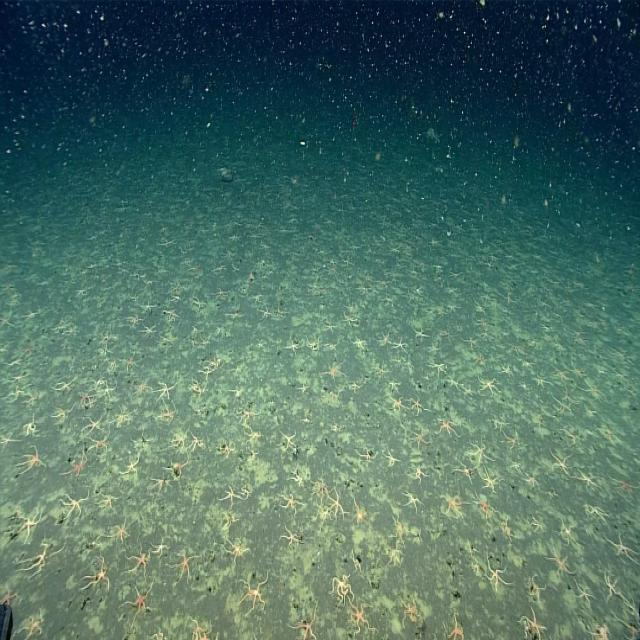brittle-stars: (14, 597, 55, 640), (288, 602, 326, 640), (13, 503, 50, 542), (237, 570, 269, 614), (26, 541, 56, 587), (594, 571, 634, 602), (59, 488, 93, 524), (544, 540, 575, 579), (1, 380, 34, 414), (126, 582, 153, 623), (550, 445, 575, 488), (112, 452, 146, 483), (82, 559, 112, 594), (435, 412, 463, 449), (613, 528, 640, 566), (217, 477, 250, 508), (400, 592, 422, 638), (112, 400, 137, 440), (175, 545, 197, 589), (491, 552, 512, 598), (329, 570, 359, 602), (472, 487, 496, 527), (17, 414, 46, 447), (438, 489, 467, 522), (518, 604, 544, 640), (436, 611, 468, 640), (124, 548, 149, 585), (408, 422, 432, 460), (557, 514, 580, 553), (170, 449, 193, 487), (21, 446, 50, 476), (110, 511, 133, 548), (169, 417, 194, 451), (228, 530, 248, 572), (51, 394, 72, 434), (604, 478, 640, 501), (98, 374, 122, 408), (96, 484, 118, 521), (348, 601, 372, 634), (524, 572, 548, 605), (479, 367, 499, 405), (467, 437, 496, 463), (578, 468, 604, 497), (583, 500, 608, 530), (480, 462, 501, 497), (63, 450, 89, 478), (398, 487, 426, 513), (283, 329, 304, 363), (146, 472, 166, 506), (54, 370, 79, 397), (280, 528, 305, 555), (584, 619, 616, 640), (81, 414, 103, 444), (387, 517, 409, 547), (257, 303, 280, 331), (313, 501, 335, 529), (427, 351, 449, 379), (77, 388, 97, 418), (239, 426, 263, 451), (320, 359, 347, 381), (234, 403, 262, 424), (191, 428, 208, 462), (551, 364, 575, 388), (293, 377, 318, 400), (220, 502, 235, 540), (316, 470, 333, 503), (501, 428, 524, 452), (455, 461, 477, 486), (123, 309, 144, 335), (94, 430, 112, 460), (280, 428, 300, 455), (383, 446, 402, 474), (279, 494, 304, 515), (218, 433, 236, 462), (227, 302, 247, 328), (191, 291, 210, 318), (134, 379, 155, 403), (371, 352, 390, 378), (126, 346, 142, 376), (335, 490, 351, 520), (152, 535, 166, 568), (190, 375, 207, 402), (411, 464, 430, 488), (389, 390, 405, 418), (142, 291, 158, 318), (410, 321, 428, 345), (156, 384, 181, 401), (99, 328, 116, 353), (392, 337, 413, 357), (576, 585, 597, 605), (529, 372, 548, 394), (554, 392, 570, 418), (356, 501, 374, 524), (205, 352, 222, 376), (531, 512, 546, 539), (410, 395, 426, 419), (360, 445, 380, 464), (214, 284, 233, 304), (500, 358, 514, 385), (163, 305, 180, 326), (503, 507, 512, 546), (475, 312, 494, 330), (351, 334, 368, 354), (144, 316, 158, 338), (379, 328, 393, 350), (600, 426, 618, 443), (466, 334, 480, 354), (160, 328, 174, 347), (212, 260, 227, 277), (386, 380, 404, 394), (445, 302, 460, 318), (473, 298, 486, 316), (444, 378, 459, 393), (160, 236, 175, 251), (322, 322, 338, 336), (463, 383, 473, 404), (128, 288, 138, 308), (349, 378, 361, 394), (475, 354, 488, 368), (76, 284, 86, 301), (248, 294, 262, 304)
